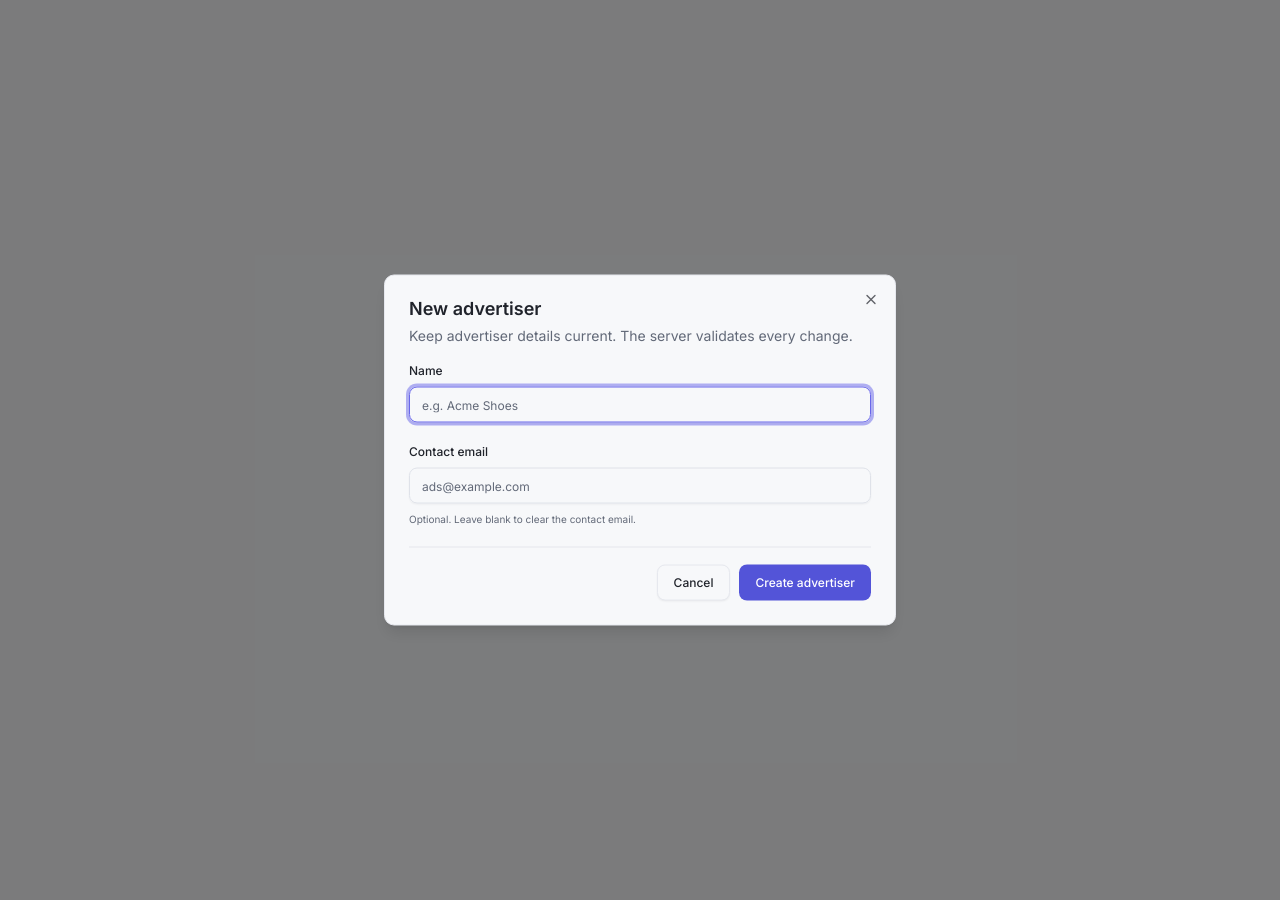
Scenario: surfaces an advertiser name conflict
Type "Acme" into the field labelled "Name" at coordinates (640, 404), box left=409, top=386, right=871, bottom=422
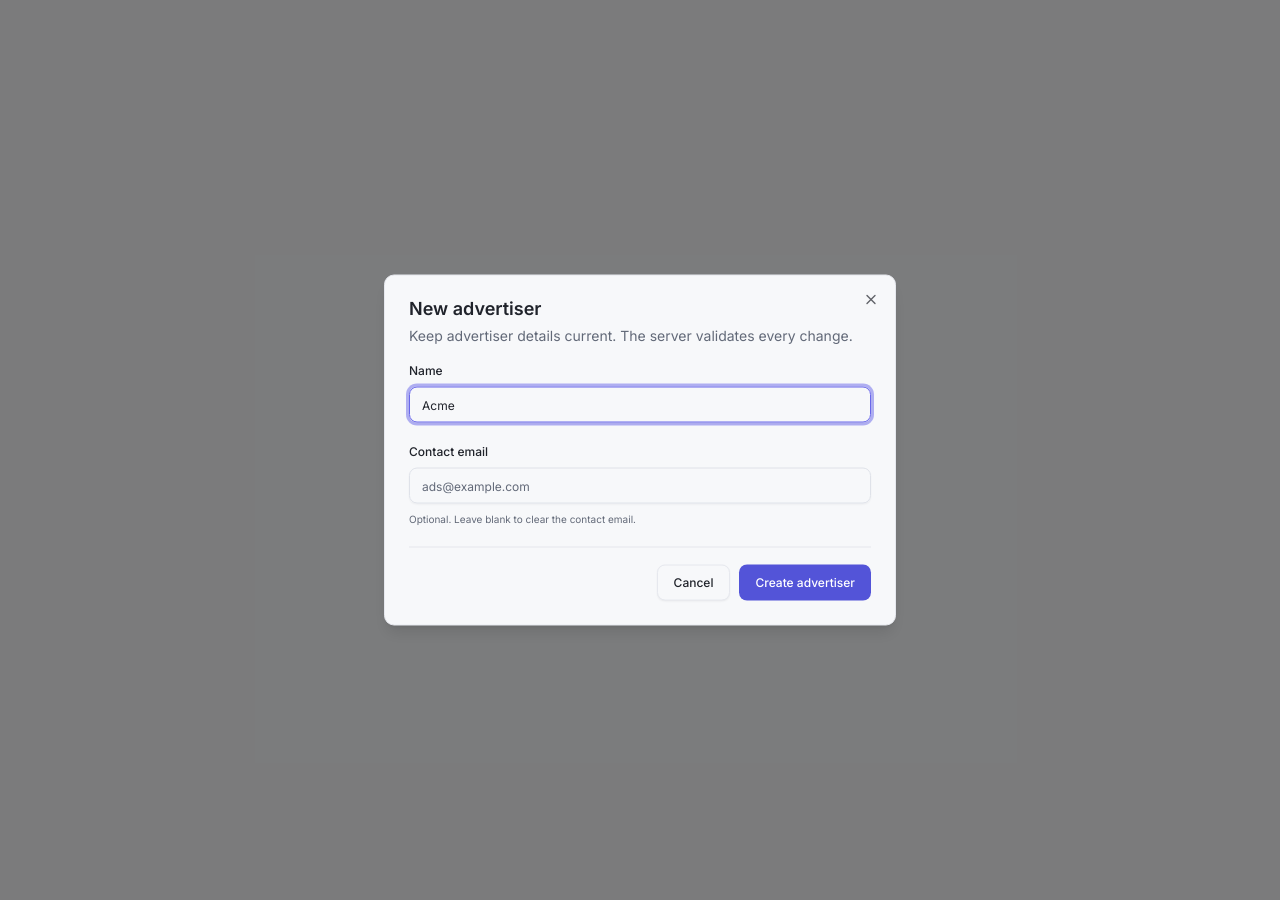
Click the button "Create advertiser" at coordinates (805, 582), box left=740, top=564, right=871, bottom=600
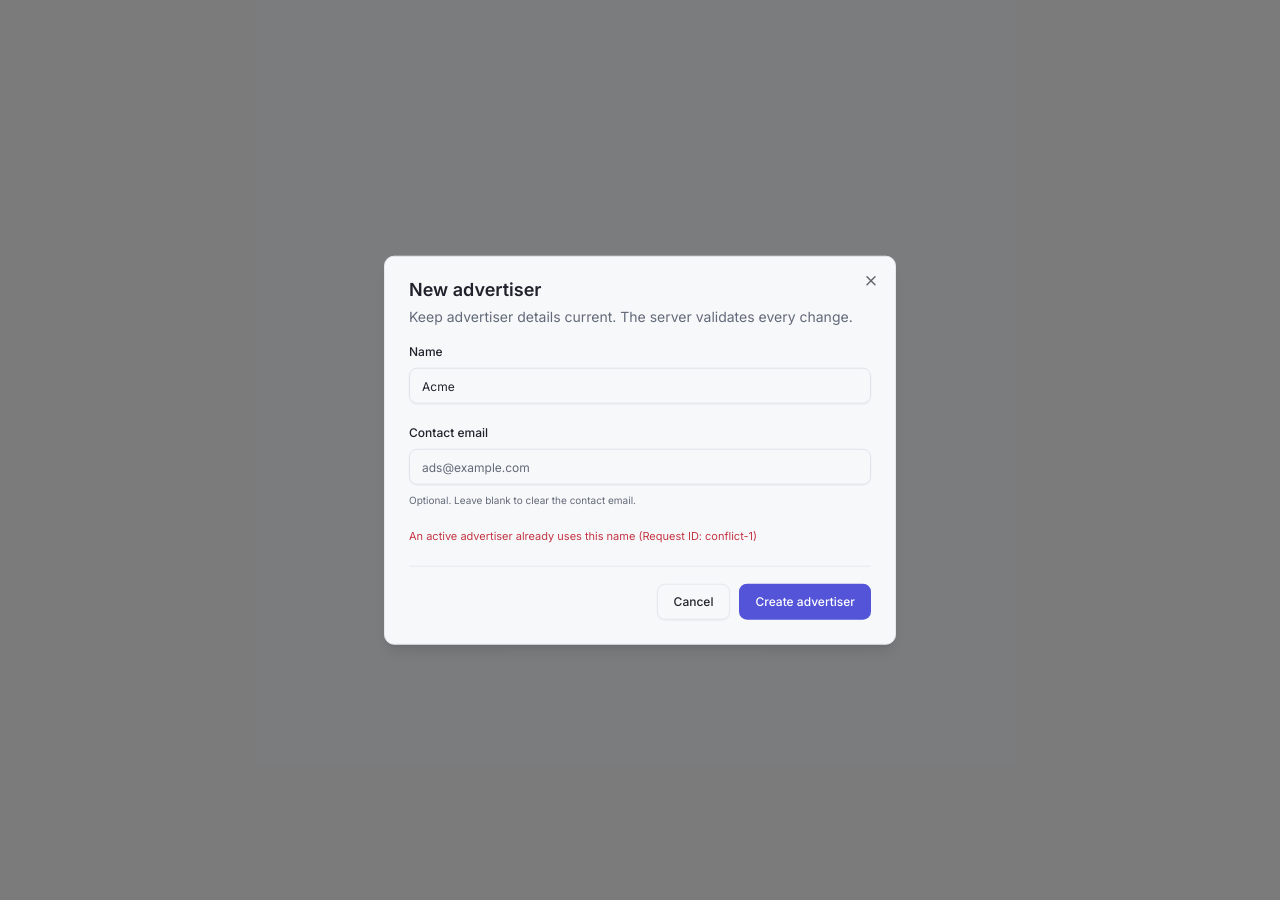
Check: the text "An active advertiser already uses this name (Request ID: conflict-1)" is shown, box left=409, top=529, right=757, bottom=543
